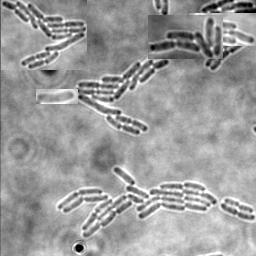Dividing: (219, 204, 255, 222), (223, 199, 253, 215)
Microcolony: (57, 167, 216, 238), (75, 59, 169, 136), (1, 0, 87, 70), (148, 15, 223, 59), (189, 13, 256, 46), (200, 1, 255, 13), (36, 89, 78, 104)
